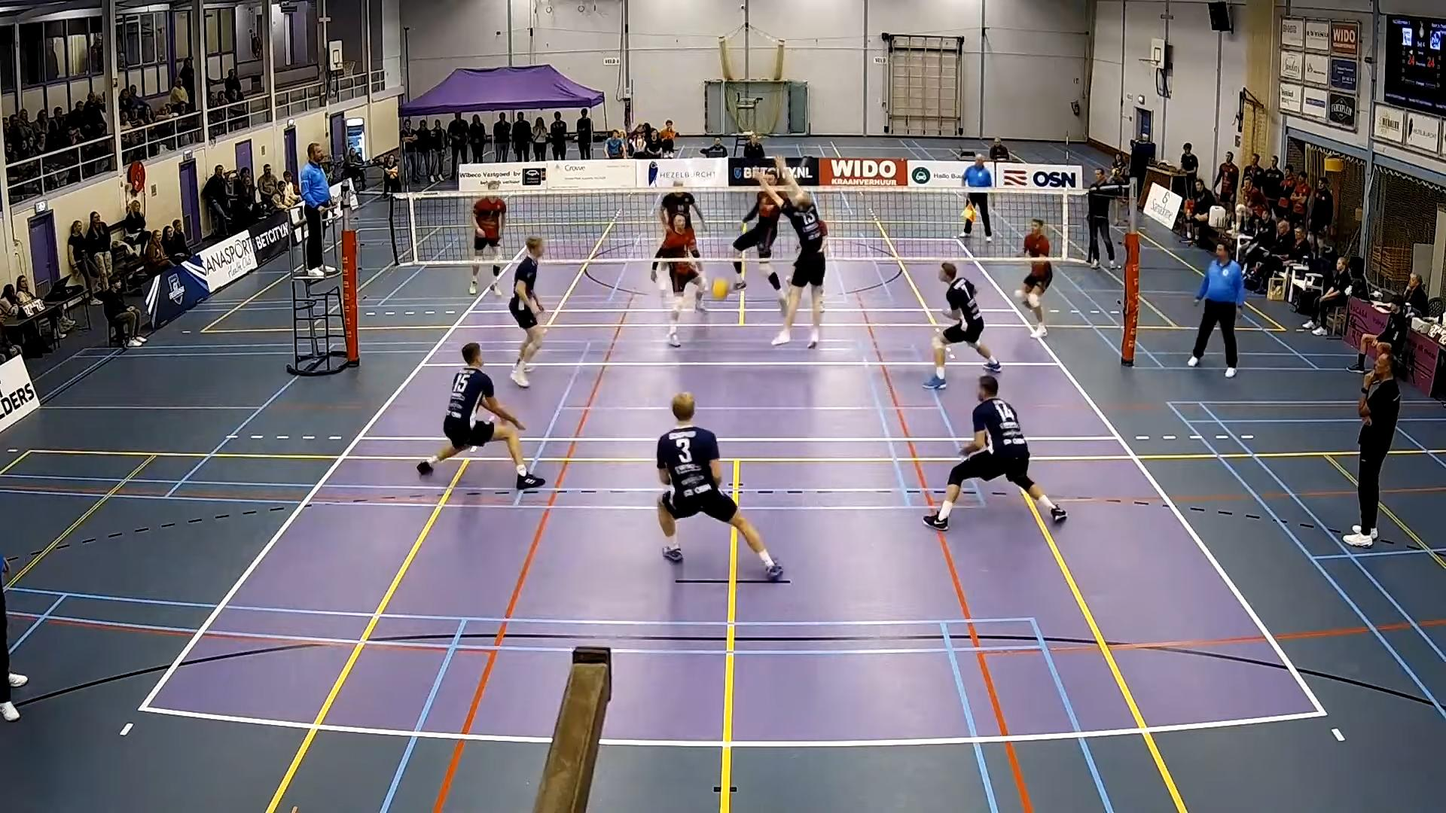Block: (749, 153, 829, 355)
Dig: (643, 393, 786, 583)
Player: (657, 393, 782, 580), (923, 376, 1066, 530), (417, 343, 545, 490), (924, 263, 1002, 389), (732, 190, 786, 311), (508, 236, 545, 388), (1015, 219, 1053, 338), (468, 181, 506, 294), (650, 214, 700, 282), (659, 180, 705, 228)
ball: (705, 277, 738, 300)
